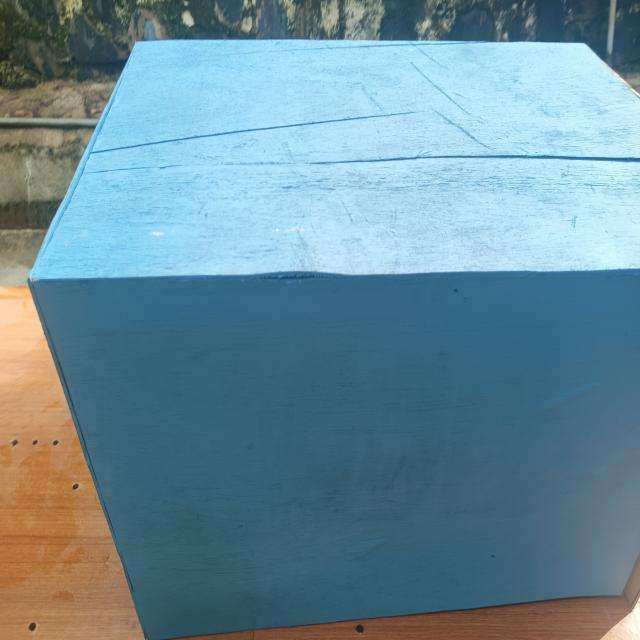blue_box: (42, 13, 640, 620)
